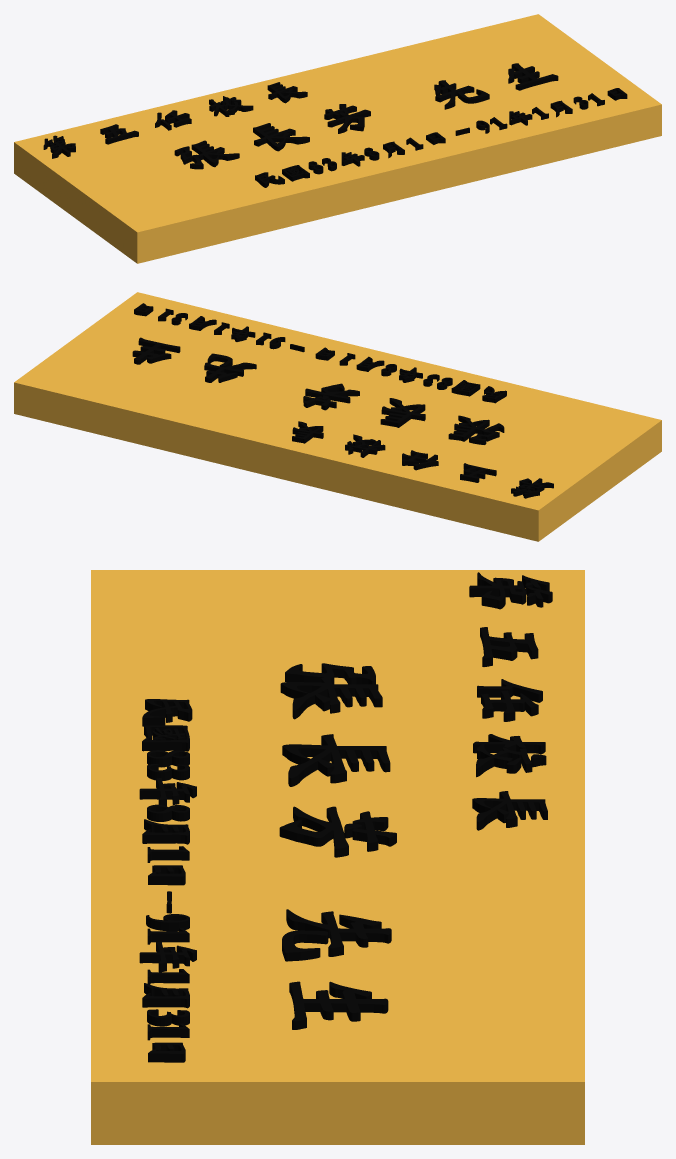
File: 第五任.FBX
3 views of the same model, one above another, from view 1: azimuth 30°, elevation 25°; view 2: azimuth 150°, elevation 25°; view 3: azimuth 270°, elevation 25° (orthographic). The views are drawn at different scales.
Parts seen in each view (by area): view 1: Box002, Text017, Text018, Text016; view 2: Box002, Text017, Text018, Text016; view 3: Box002, Text017, Text018, Text016.
Boxes of the visible parts, x1,y1,x2,y2 form: Box002: (14, 14, 661, 263); Text017: (174, 63, 558, 169); Text018: (255, 88, 627, 187); Text016: (43, 82, 307, 158); Box002: (14, 292, 661, 541); Text017: (132, 337, 504, 444); Text018: (134, 303, 506, 403); Text016: (292, 421, 553, 498); Box002: (91, 570, 584, 1144); Text017: (279, 663, 396, 1029); Text018: (139, 699, 196, 1062); Text016: (469, 572, 552, 830).
Size of the model in its own units: 469 by 30.59 by 191.
